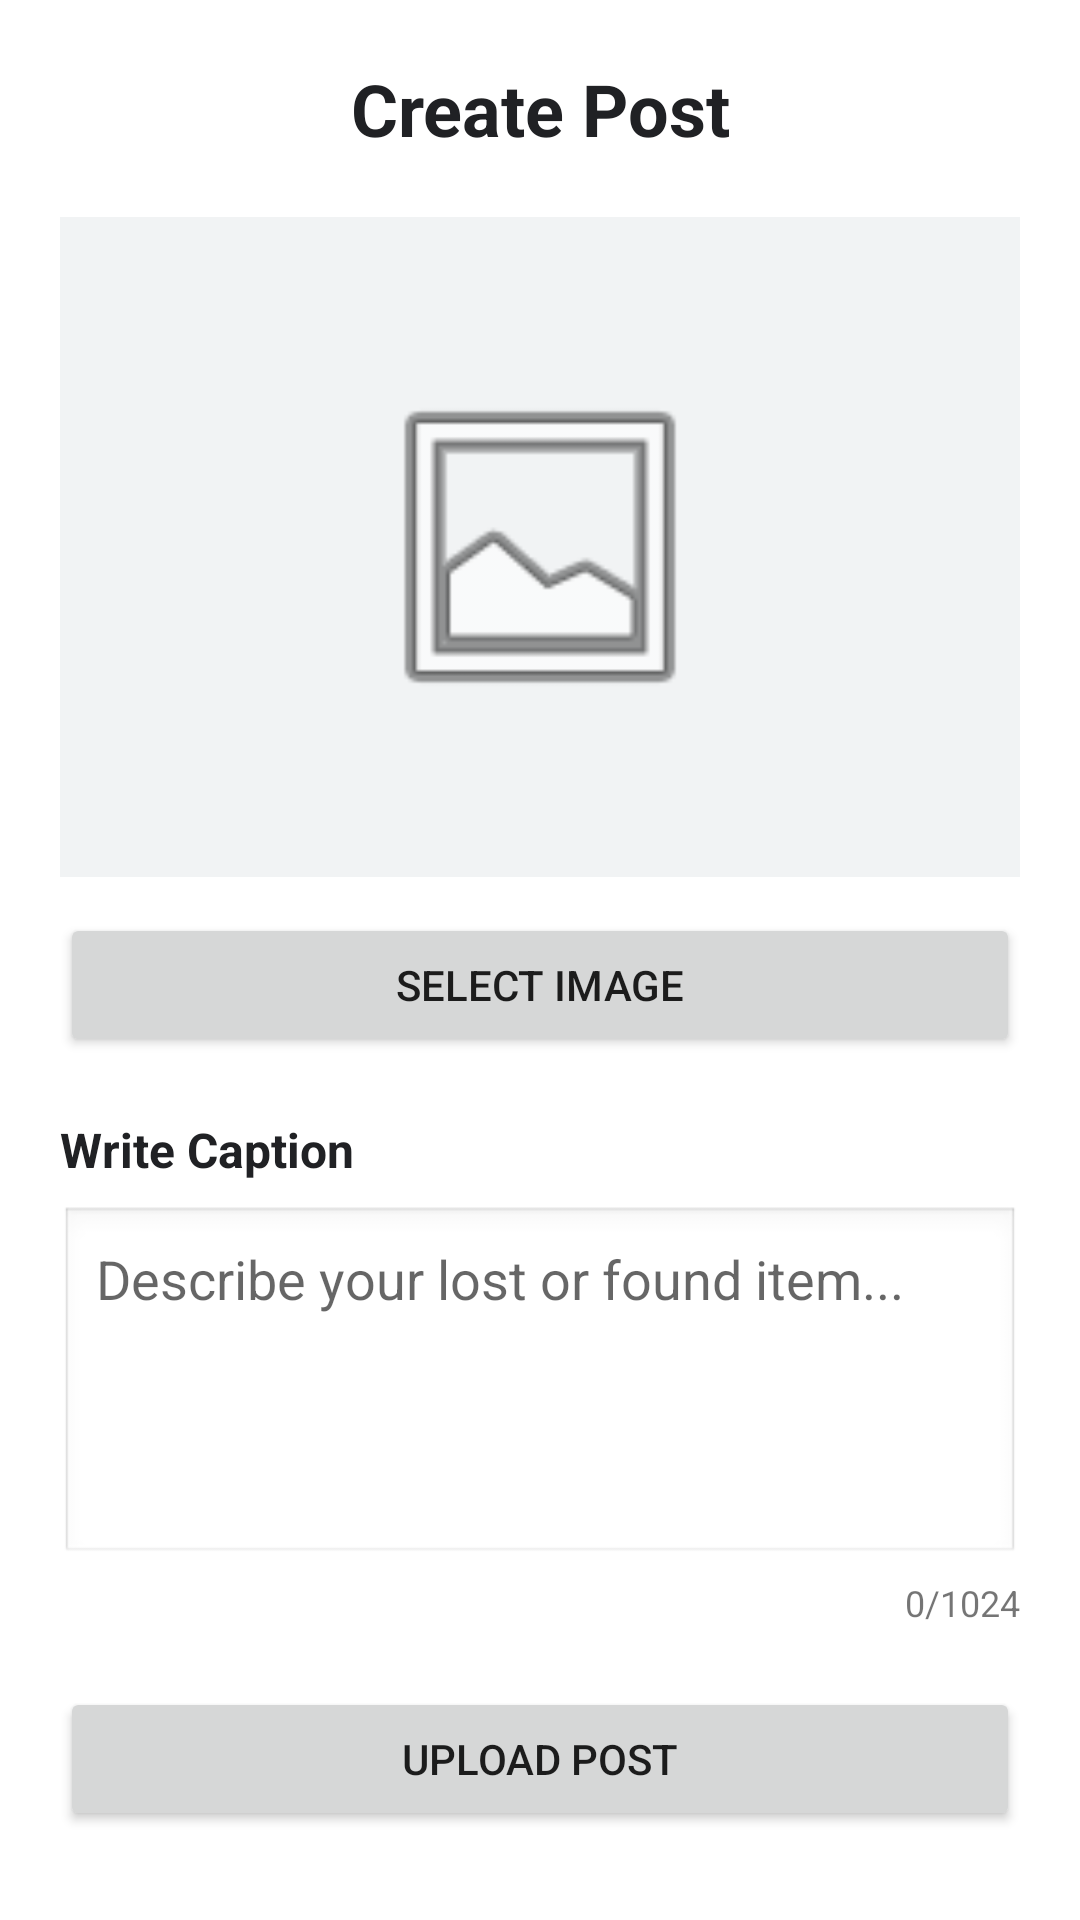

Screen size 1080w x 1920h. Icon name, then its center in pixels as (x,y):
Gallery placeholder: (540,547)
